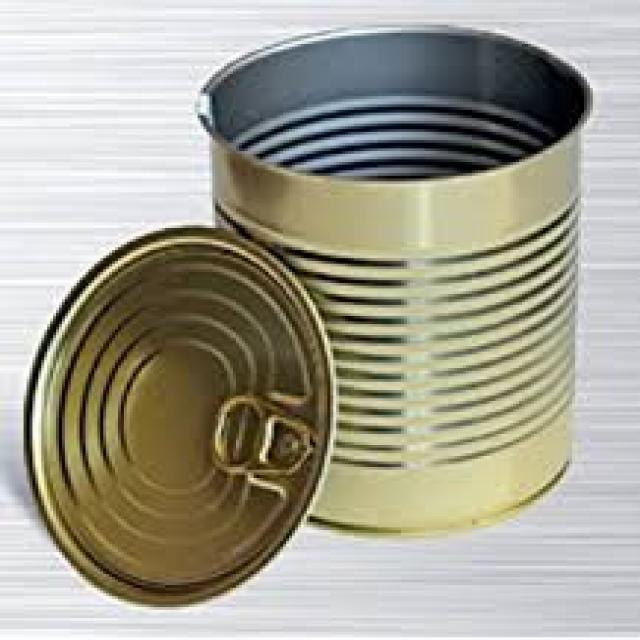metal-can: (195, 22, 603, 540), (24, 221, 344, 608)
